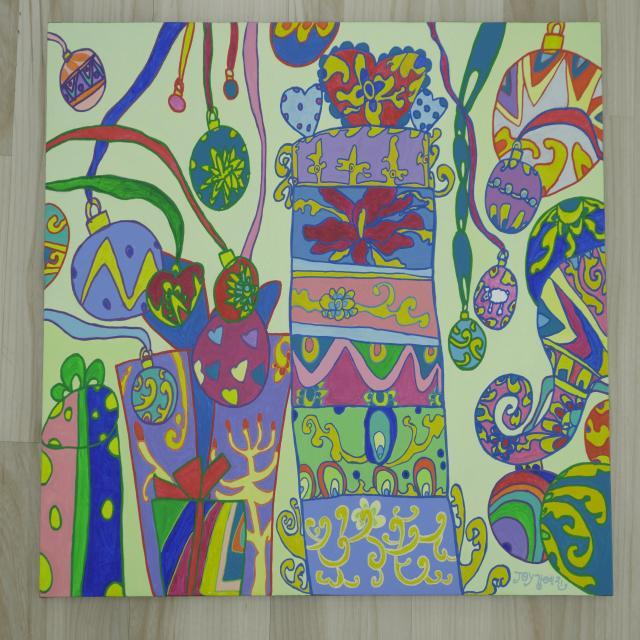painting: (40, 22, 612, 596)
